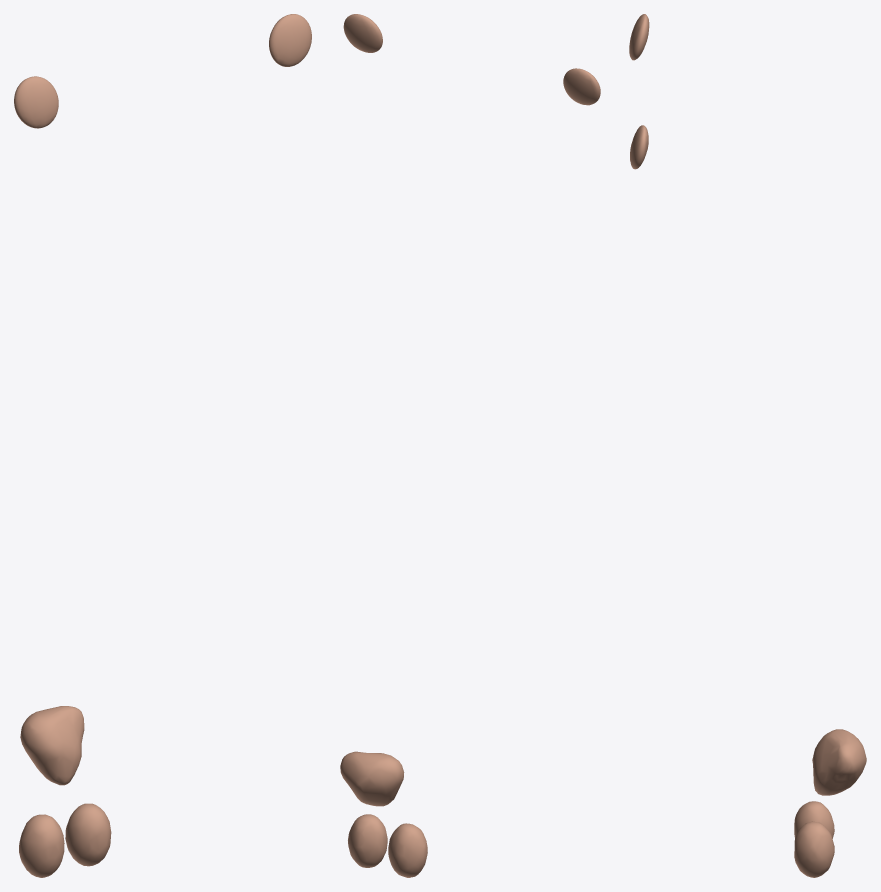
File: pediatric_neonate_male.reproductive.LOD0.glb
3 renders of one model, left to right at view 1: azimuth 30°, elevation 25°; view 2: azimuth 150°, elevation 25°; view 3: azimuth 270°, elevation 25°, orthographic. The views are drawn at different scales.
Visible parts, largest first — view 1: PEDIATRIC.NEONATE.MALE.REPRODUCTIVE.PROSTATE, PEDIATRIC.NEONATE.MALE.REPRODUCTIVE.TESTIS.R, PEDIATRIC.NEONATE.MALE.REPRODUCTIVE.TESTIS.L, PEDIATRIC.NEONATE.MALE.REPRODUCTIVE.BREAST_ADIPOSE_TISSUE.R, PEDIATRIC.NEONATE.MALE.REPRODUCTIVE.BREAST_ADIPOSE_TISSUE.L; view 2: PEDIATRIC.NEONATE.MALE.REPRODUCTIVE.PROSTATE, PEDIATRIC.NEONATE.MALE.REPRODUCTIVE.TESTIS.R, PEDIATRIC.NEONATE.MALE.REPRODUCTIVE.TESTIS.L, PEDIATRIC.NEONATE.MALE.REPRODUCTIVE.BREAST_ADIPOSE_TISSUE.L, PEDIATRIC.NEONATE.MALE.REPRODUCTIVE.BREAST_ADIPOSE_TISSUE.R; view 3: PEDIATRIC.NEONATE.MALE.REPRODUCTIVE.PROSTATE, PEDIATRIC.NEONATE.MALE.REPRODUCTIVE.TESTIS.L, PEDIATRIC.NEONATE.MALE.REPRODUCTIVE.TESTIS.R, PEDIATRIC.NEONATE.MALE.REPRODUCTIVE.BREAST_ADIPOSE_TISSUE.R, PEDIATRIC.NEONATE.MALE.REPRODUCTIVE.BREAST_ADIPOSE_TISSUE.L.
Part boxes in pixels (x1,y1,x2,y2): PEDIATRIC.NEONATE.MALE.REPRODUCTIVE.PROSTATE: (20, 706, 84, 785); PEDIATRIC.NEONATE.MALE.REPRODUCTIVE.TESTIS.R: (19, 814, 64, 877); PEDIATRIC.NEONATE.MALE.REPRODUCTIVE.TESTIS.L: (65, 803, 111, 866); PEDIATRIC.NEONATE.MALE.REPRODUCTIVE.BREAST_ADIPOSE_TISSUE.R: (14, 76, 58, 128); PEDIATRIC.NEONATE.MALE.REPRODUCTIVE.BREAST_ADIPOSE_TISSUE.L: (269, 14, 311, 66); PEDIATRIC.NEONATE.MALE.REPRODUCTIVE.PROSTATE: (340, 751, 404, 806); PEDIATRIC.NEONATE.MALE.REPRODUCTIVE.TESTIS.R: (388, 823, 427, 877); PEDIATRIC.NEONATE.MALE.REPRODUCTIVE.TESTIS.L: (348, 814, 387, 867); PEDIATRIC.NEONATE.MALE.REPRODUCTIVE.BREAST_ADIPOSE_TISSUE.L: (343, 14, 382, 52); PEDIATRIC.NEONATE.MALE.REPRODUCTIVE.BREAST_ADIPOSE_TISSUE.R: (563, 68, 600, 105); PEDIATRIC.NEONATE.MALE.REPRODUCTIVE.PROSTATE: (812, 729, 866, 795); PEDIATRIC.NEONATE.MALE.REPRODUCTIVE.TESTIS.L: (794, 821, 834, 877); PEDIATRIC.NEONATE.MALE.REPRODUCTIVE.TESTIS.R: (794, 801, 834, 838); PEDIATRIC.NEONATE.MALE.REPRODUCTIVE.BREAST_ADIPOSE_TISSUE.R: (629, 14, 649, 60); PEDIATRIC.NEONATE.MALE.REPRODUCTIVE.BREAST_ADIPOSE_TISSUE.L: (630, 125, 648, 169).
Size of the model in its own units: 0.062 by 0.1789 by 0.0484.
